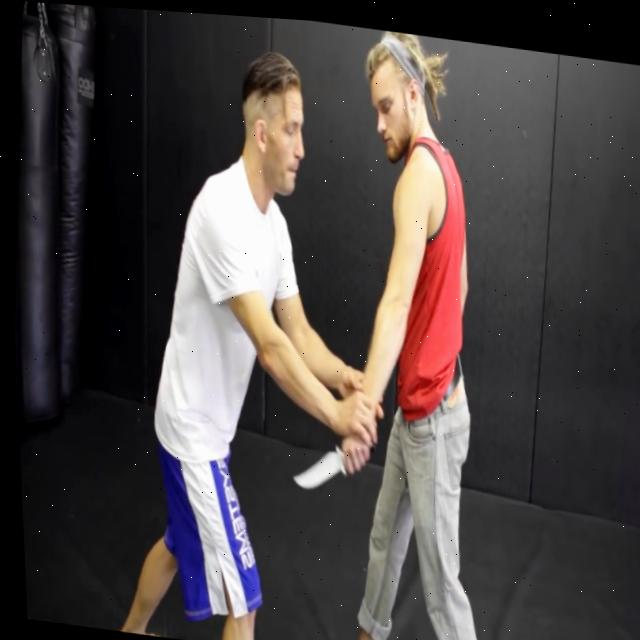knife: (281, 432, 341, 502)
